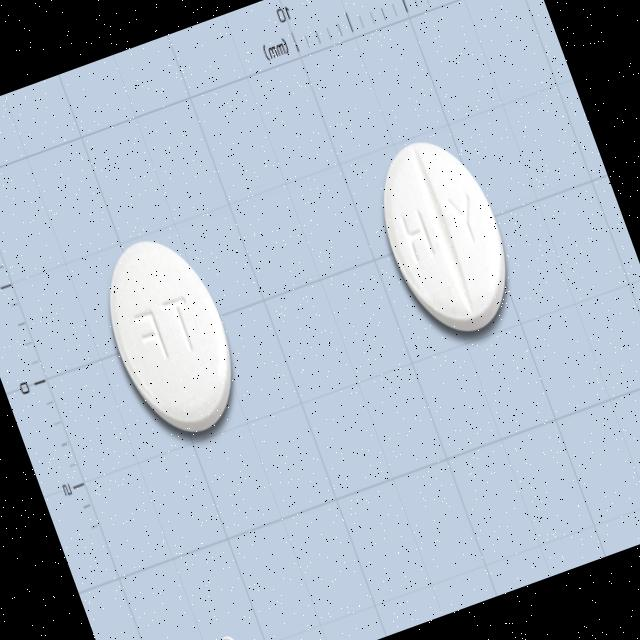Curasil: (84, 222, 256, 450), (358, 123, 530, 350)
